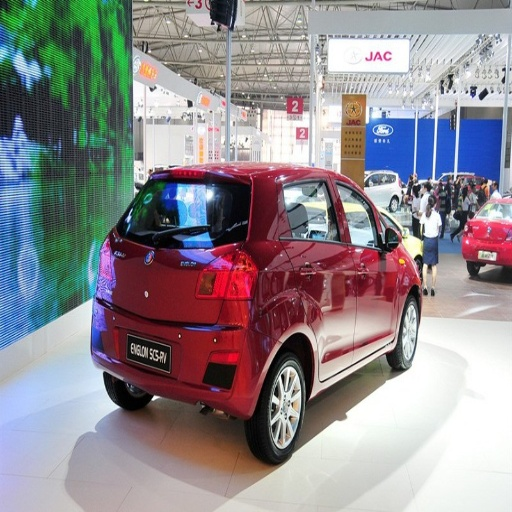back_bumper: (91, 307, 266, 411)
back_right_door: (285, 176, 356, 368)
trunk: (104, 232, 230, 355)
